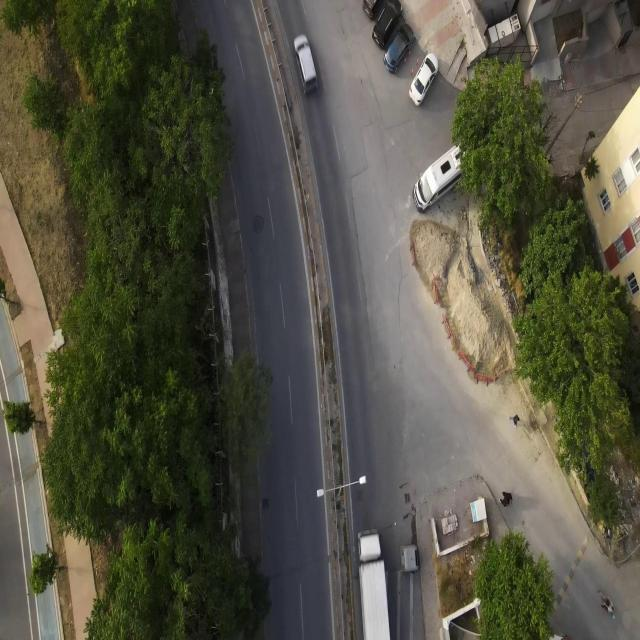p3rson: (508, 412, 520, 429), (502, 490, 513, 504), (498, 498, 509, 508)
